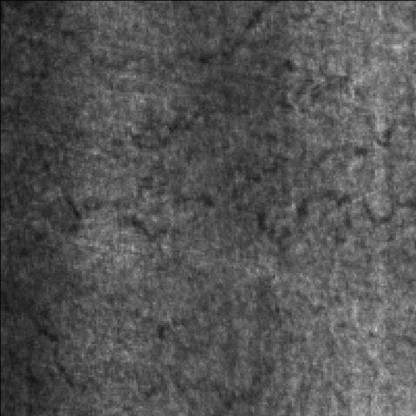crazing: (96, 38, 393, 196), (12, 160, 229, 348), (224, 114, 414, 281)
